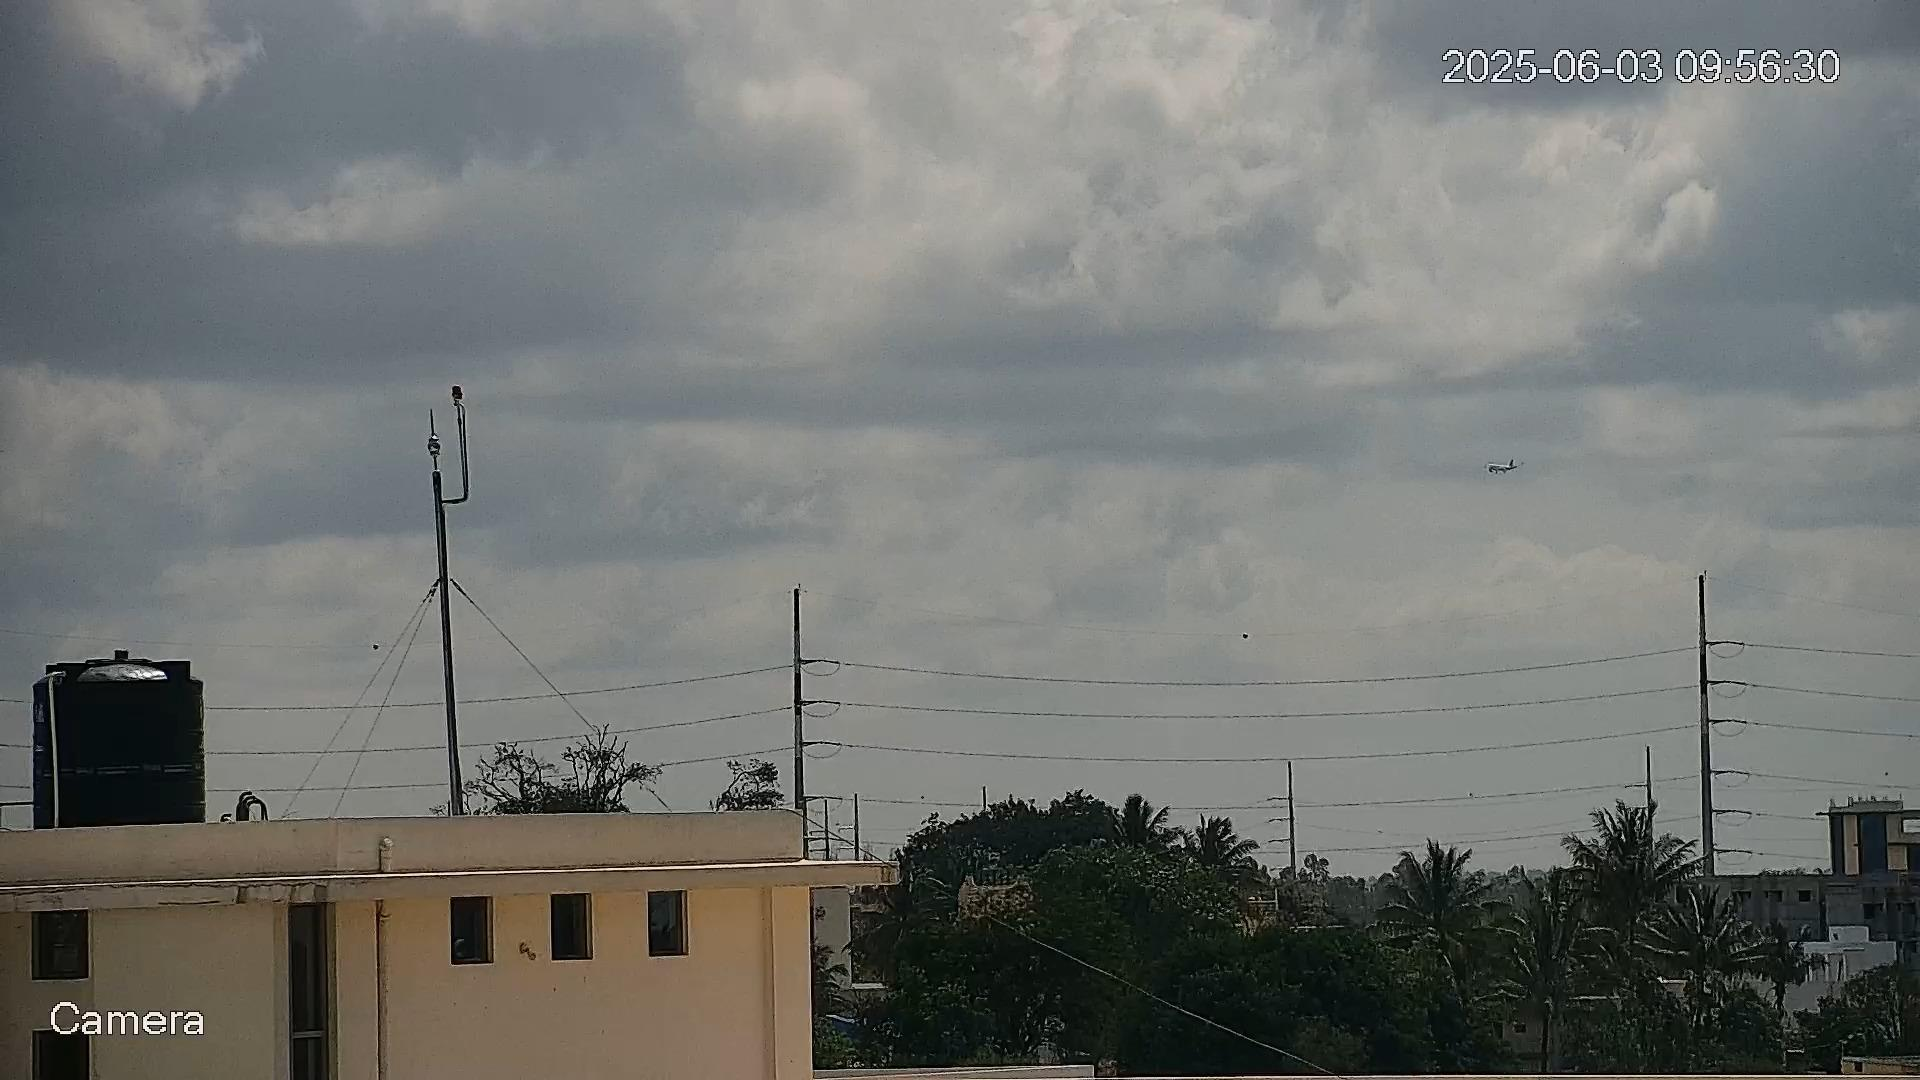Aircraft: (1486, 459, 1522, 475)
